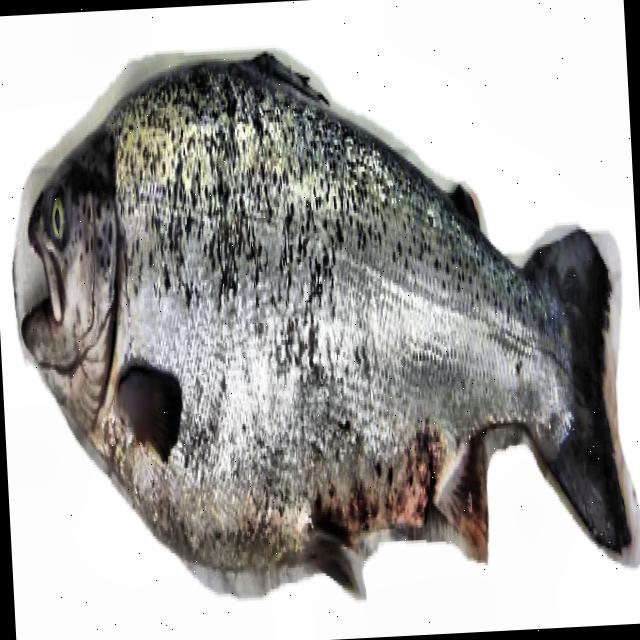mild_red: (109, 62, 573, 568)
